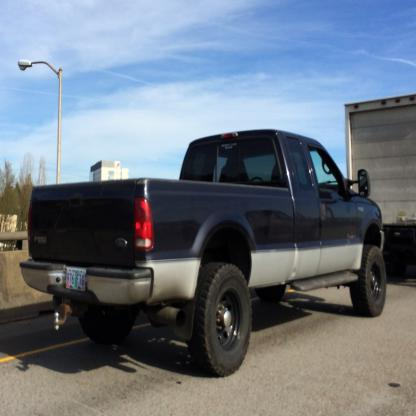Truck: (19, 129, 386, 376)
